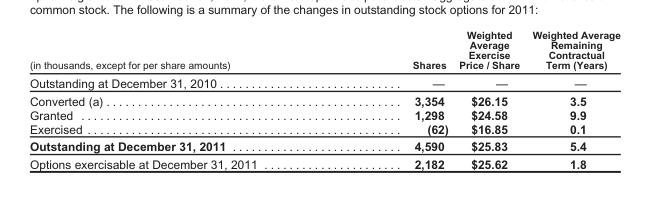table: (28, 28, 619, 170)
table column: (28, 28, 334, 170), (334, 28, 452, 170), (525, 28, 619, 170), (452, 28, 525, 170)
table column header: (28, 28, 619, 73)
table row: (28, 28, 619, 73), (28, 73, 619, 91), (28, 137, 619, 154), (28, 91, 619, 107), (28, 121, 619, 137), (28, 154, 619, 170), (28, 107, 619, 121)
